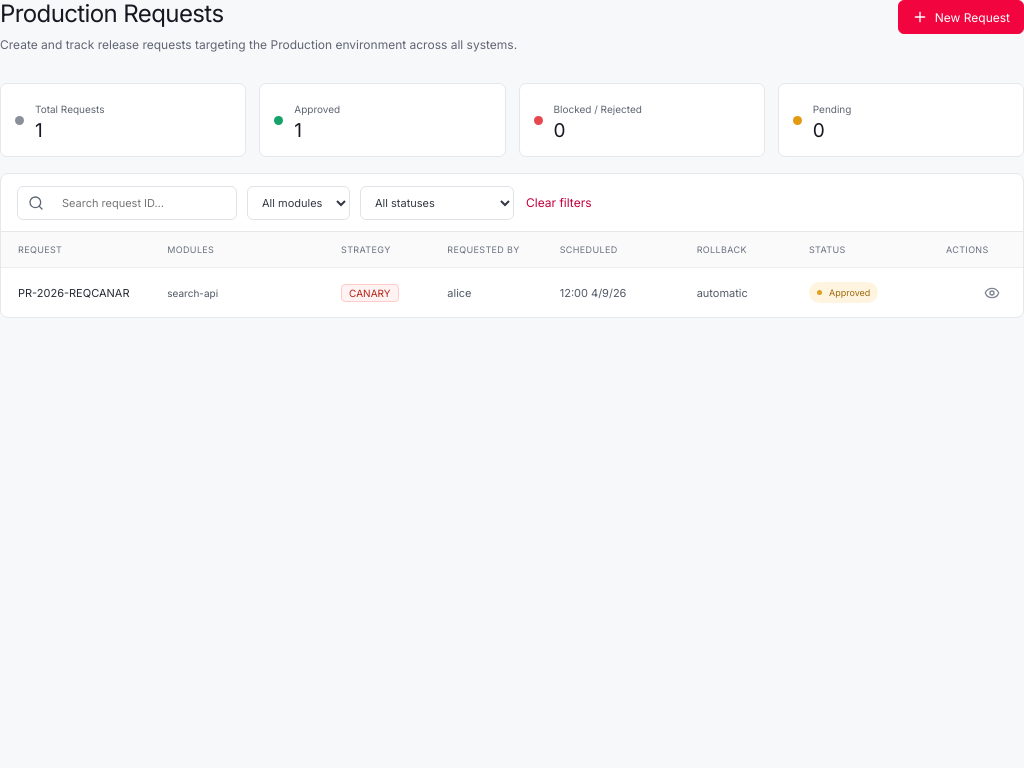
it: ProductionRequestsPage (Phase 10) › prompts for overrideReason on 409 CANARY_ANALYSIS_UNAVAILABLE and advances with override
Click the button named "view" at (992, 292), box [978, 278, 1006, 306]
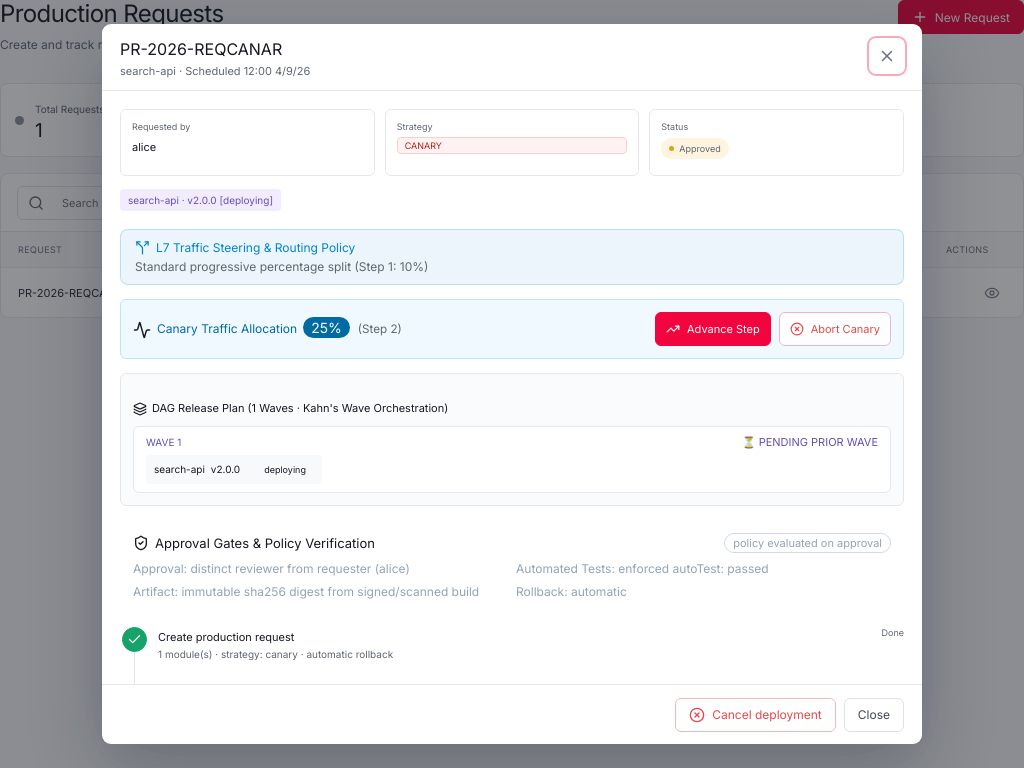
Click the button "Advance Step" at (713, 329), box [655, 312, 771, 346]
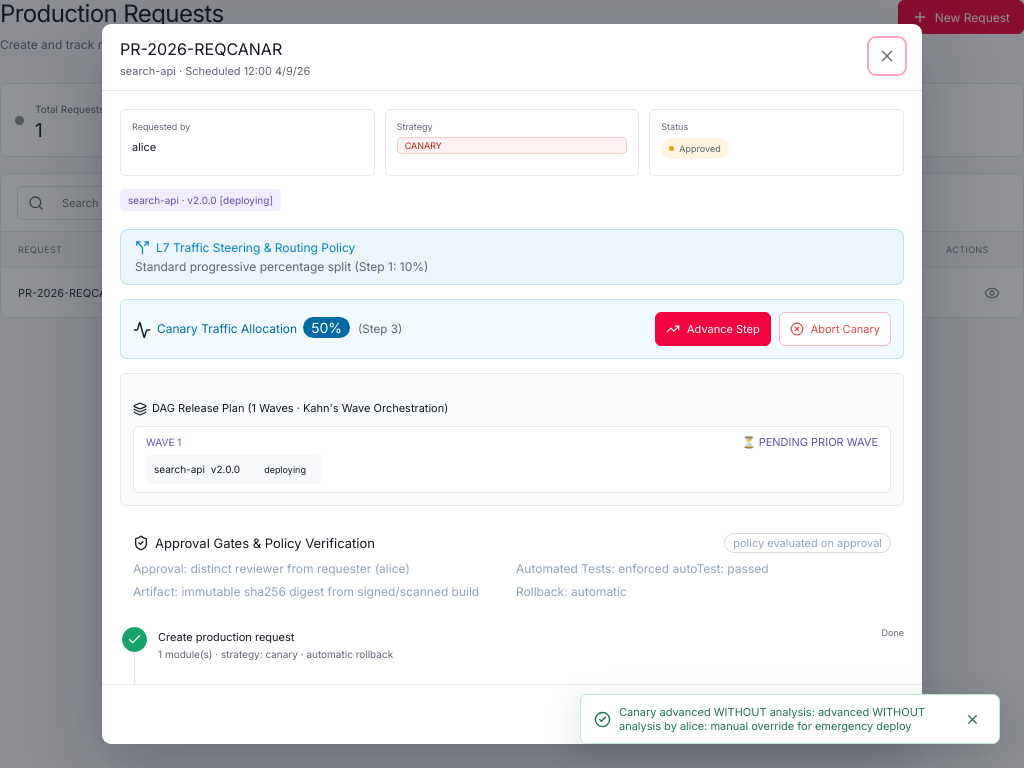
Now the text "Canary advanced WITHOUT analysis" is shown, box [619, 705, 925, 733]
